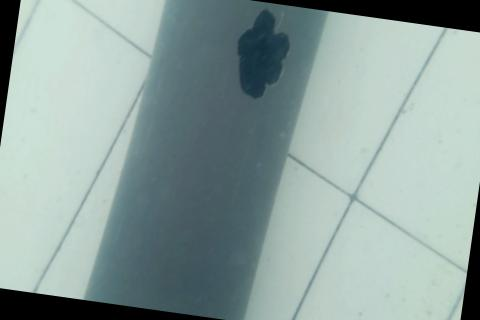kebocoran: (228, 2, 296, 103)
